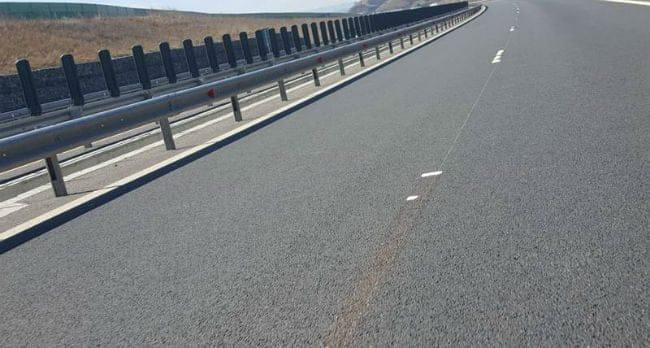faded_road_lines: (307, 133, 465, 348), (479, 47, 509, 75), (511, 0, 526, 18), (506, 22, 521, 37)
